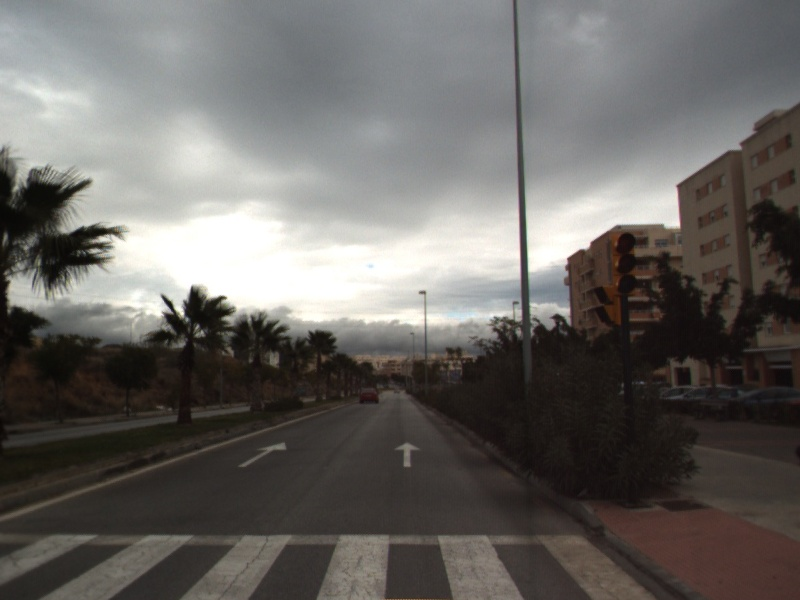STRAIGHT: (236, 440, 288, 469), (393, 440, 422, 469)
